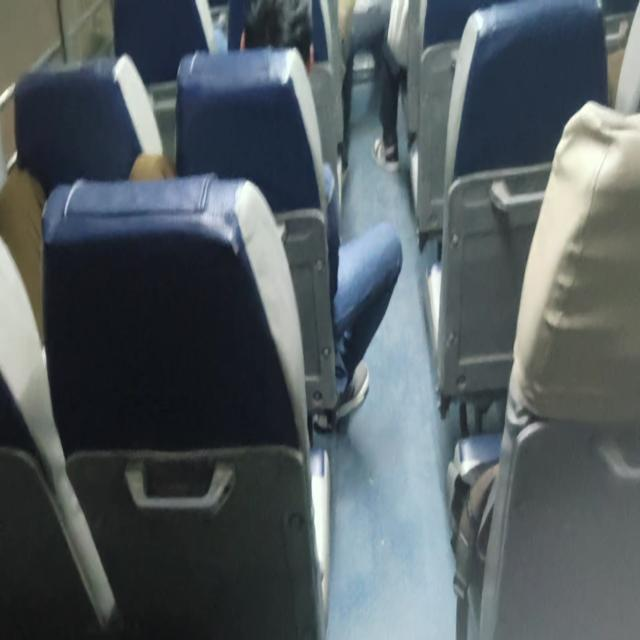person: (229, 1, 403, 425), (239, 0, 314, 74)
